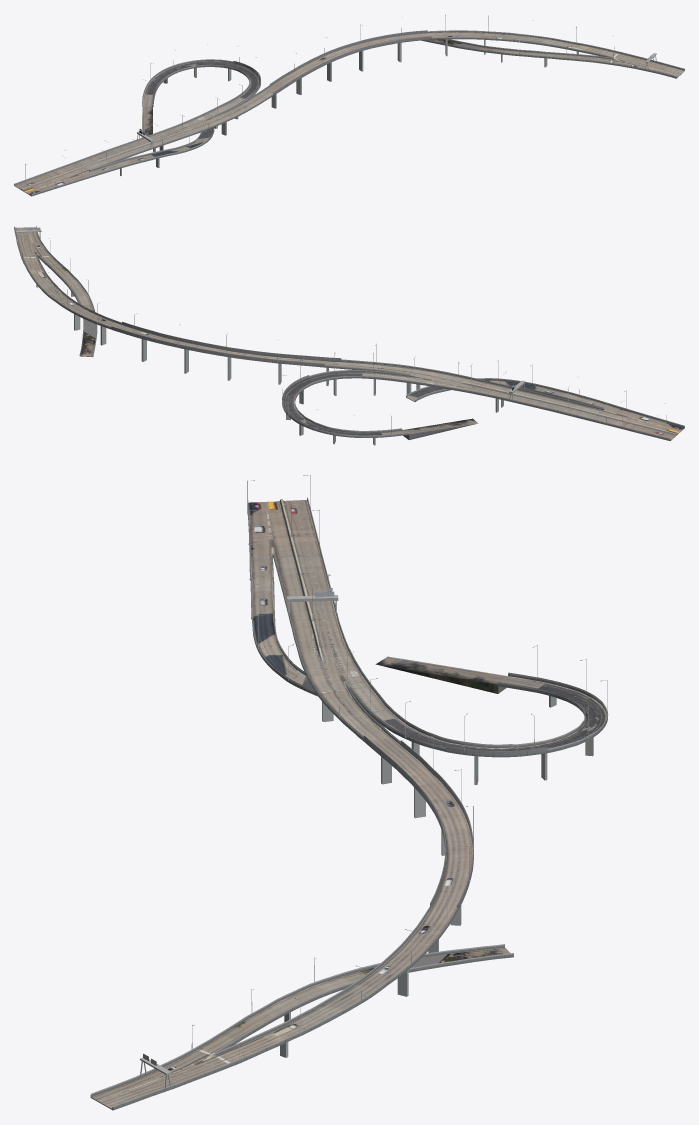
The model's file is kowloon_bay_flyover.glb.
The picture shows the model from 3 angles, top to bottom: view 1: azimuth 30°, elevation 25°; view 2: azimuth 150°, elevation 25°; view 3: azimuth 270°, elevation 25°; orthographic projection. The views are drawn at different scales.
Visible parts, largest first — view 1: I397482067707063A1; view 2: I397482067707063A1; view 3: I397482067707063A1.
Part boxes in pixels (<box>): I397482067707063A1: <box>14,14,684,196</box>; I397482067707063A1: <box>14,226,684,445</box>; I397482067707063A1: <box>90,474,608,1110</box>.
Size of the model in its own units: 454 by 29.97 by 164.
Materials: 21 (12 with a texture image).
